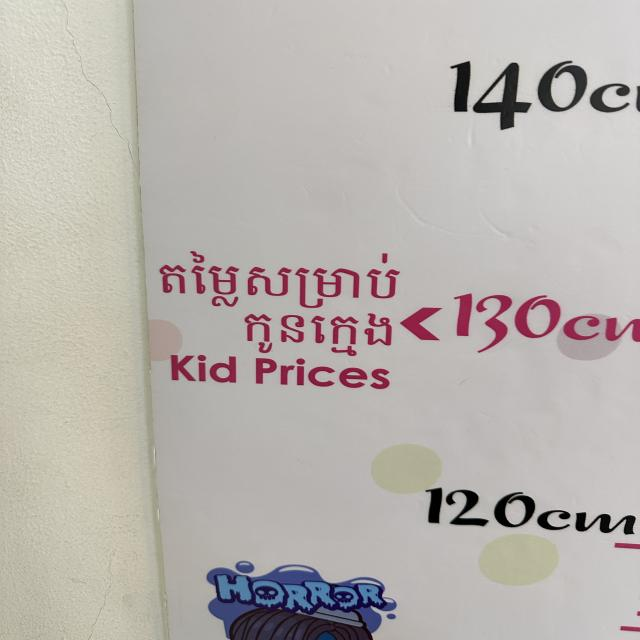561: (405, 474, 542, 538)
577: (439, 279, 579, 359)
587: (402, 41, 595, 128)
Yolov11kh: (154, 250, 405, 312), (229, 313, 399, 356)
